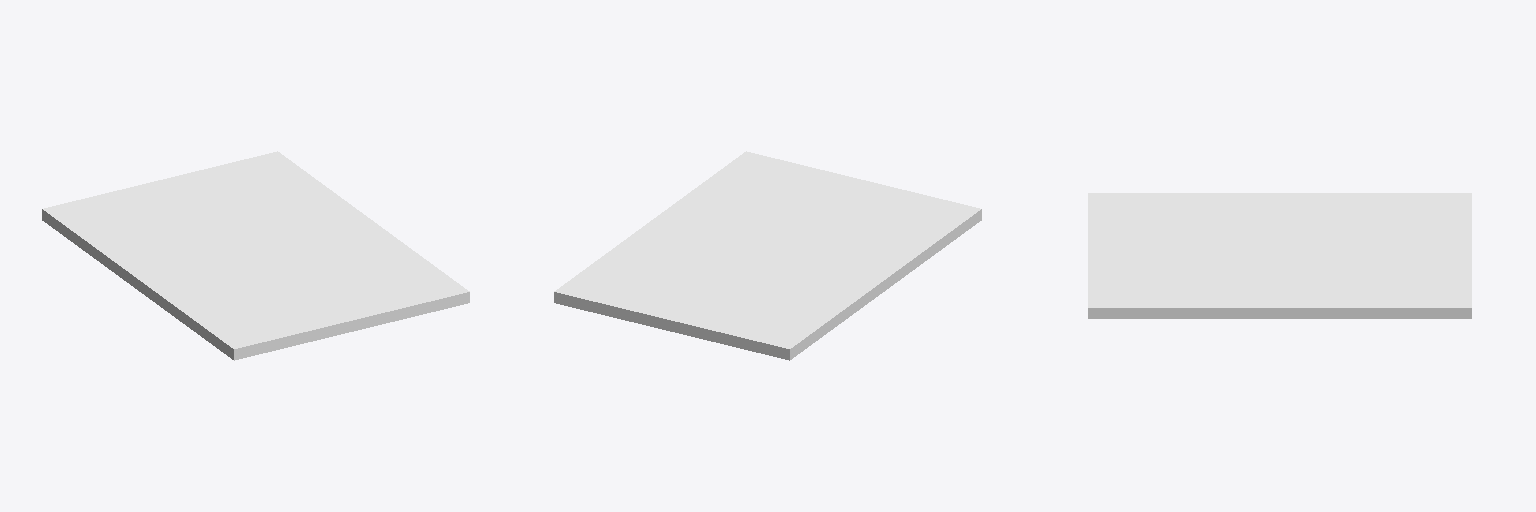
Rendered from SlowPlace.obj.
3 views of the same model, side by side, from view 1: azimuth 30°, elevation 25°; view 2: azimuth 150°, elevation 25°; view 3: azimuth 270°, elevation 25° (orthographic).
Visible parts, largest first — view 1: object 1; view 2: object 1; view 3: object 1.
Part boxes in pixels (left/top/right/bottom): object 1: left=42, top=151, right=469, bottom=360; object 1: left=554, top=151, right=981, bottom=360; object 1: left=1088, top=193, right=1471, bottom=318.
Size of the model in its own units: 2.2 by 0.1 by 3.1.